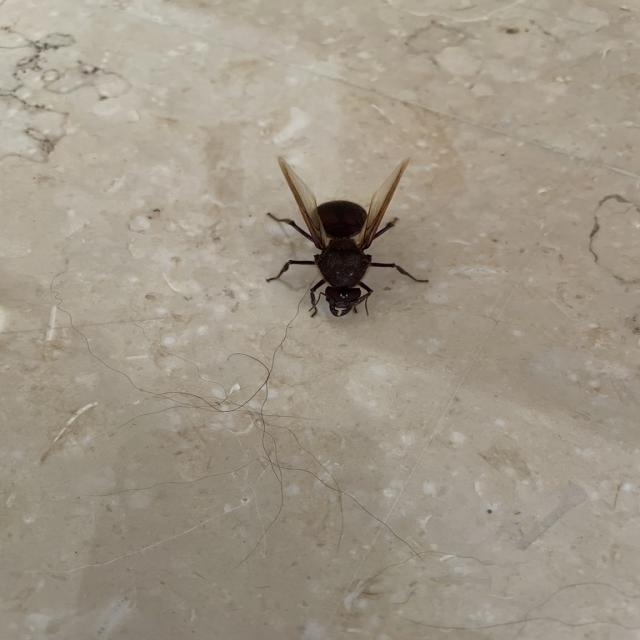Alive-Female-Alate: (266, 157, 430, 318)
